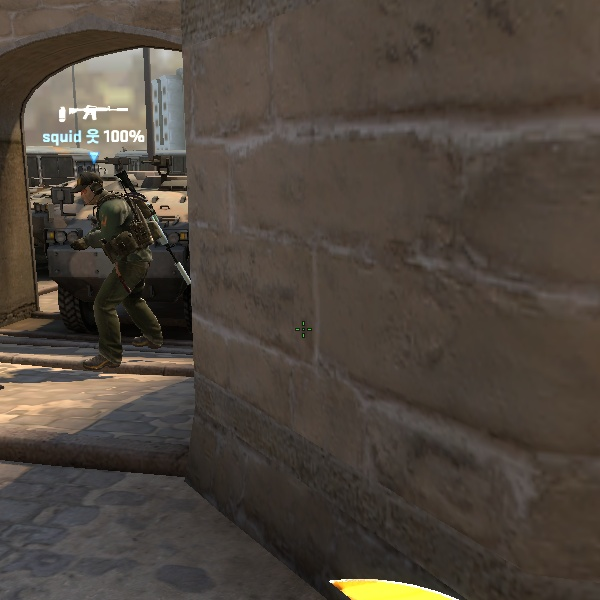ct_body: (52, 159, 188, 368)
ct_head: (70, 169, 118, 211)
